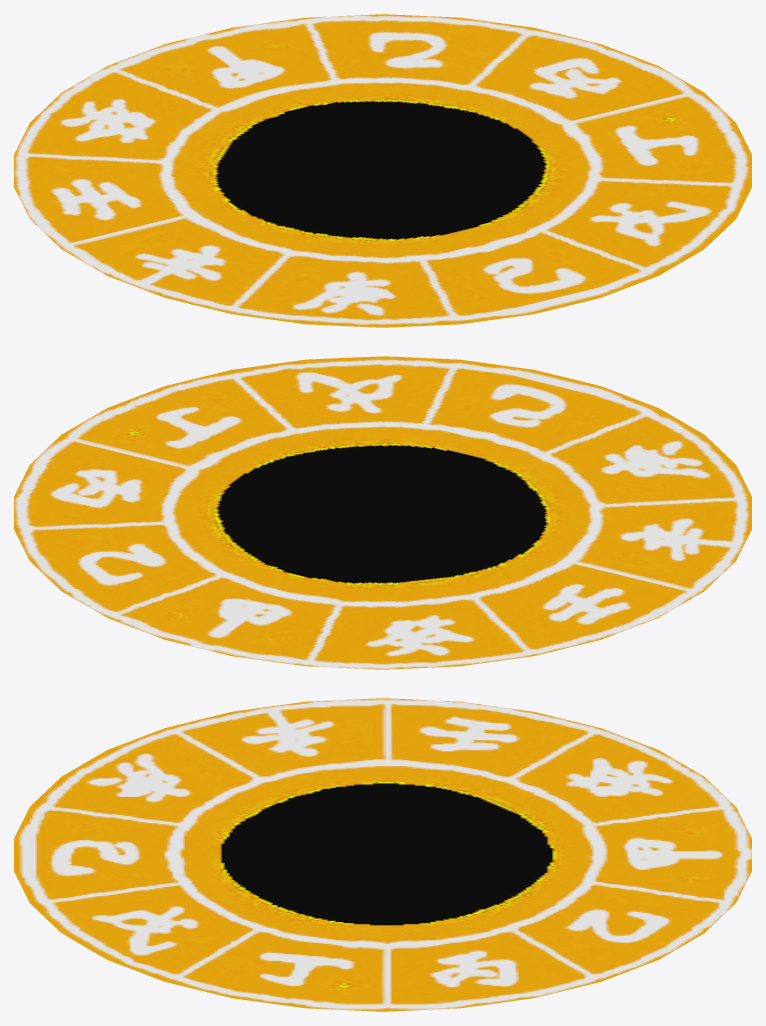
Rendered from bagua1.FBX.
The picture shows the model from 3 angles, top to bottom: view 1: azimuth 30°, elevation 25°; view 2: azimuth 150°, elevation 25°; view 3: azimuth 270°, elevation 25°; orthographic projection.
Visible parts, largest first — view 1: bagua1; view 2: bagua1; view 3: bagua1.
Boxes of the visible parts, x1,y1,x2,y2 form: bagua1: (14,14,751,327); bagua1: (14,356,751,669); bagua1: (14,698,751,1011).
Bounding box in the file's own units: 81.03 × 3.55e-15 × 80.59.
Materials: 1 (1 with a texture image).
